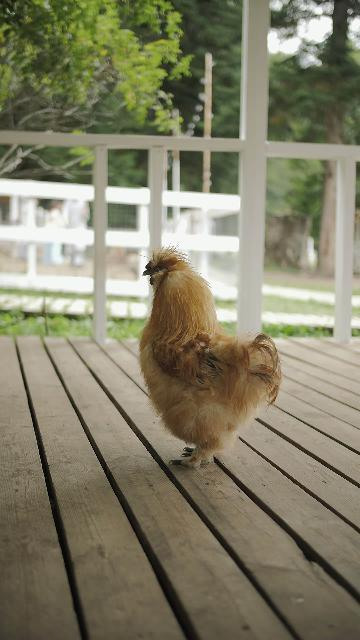Chicken: (125, 242, 285, 480)
